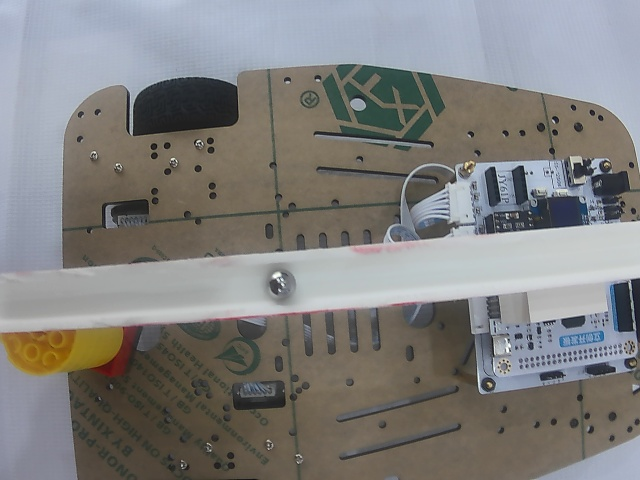steelball: (267, 269, 296, 299)
